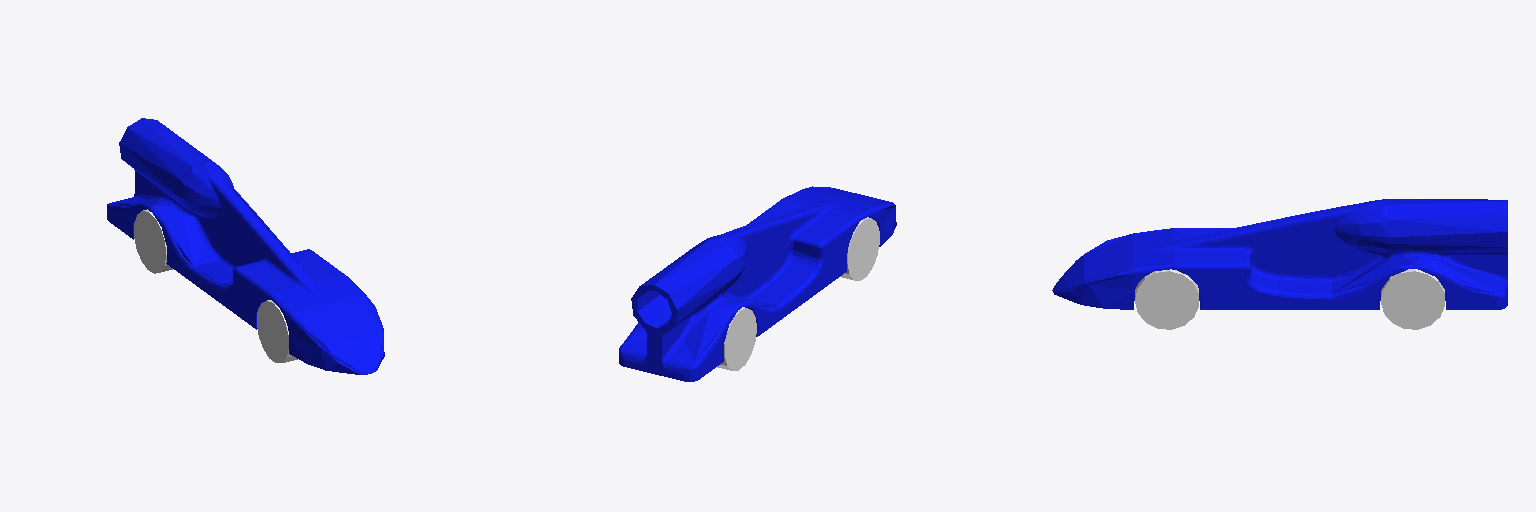
Rendered from bloodhound.obj.
The picture shows the model from 3 angles: view 1: azimuth 30°, elevation 25°; view 2: azimuth 150°, elevation 25°; view 3: azimuth 270°, elevation 25°; orthographic projection.
Parts seen in each view (by area): view 1: Solid1, Solid1:10, Solid1:9; view 2: Solid1, Solid1:9, Solid1:10; view 3: Solid1, Solid1:7, Solid1:8.
Part boxes in pixels (x1,y1,x2,y2): Solid1: (107,118,384,374); Solid1:10: (134,209,172,273); Solid1:9: (257,300,297,362); Solid1: (619,186,896,381); Solid1:9: (840,217,879,280); Solid1:10: (717,307,756,370); Solid1: (1052,199,1507,309); Solid1:7: (1135,269,1198,329); Solid1:8: (1381,269,1444,329).
Size of the model in its own units: 42 by 55.53 by 210.